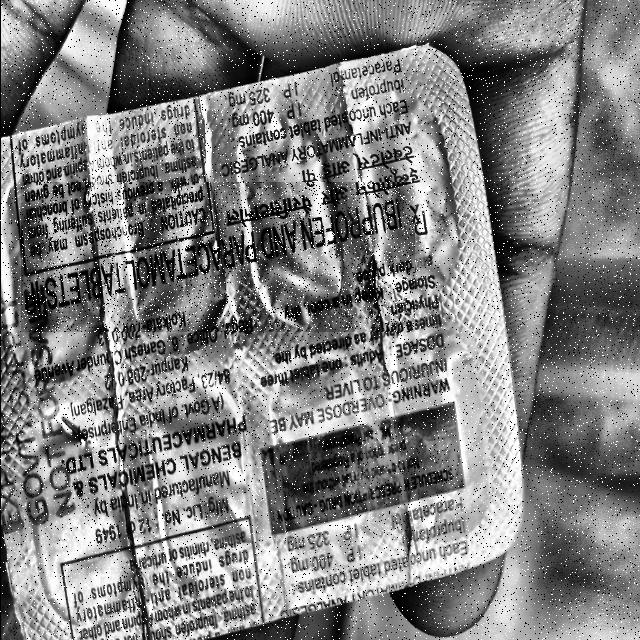IBUPROFEN AND PARACETAMOL TABLETS: (21, 183, 414, 331)
